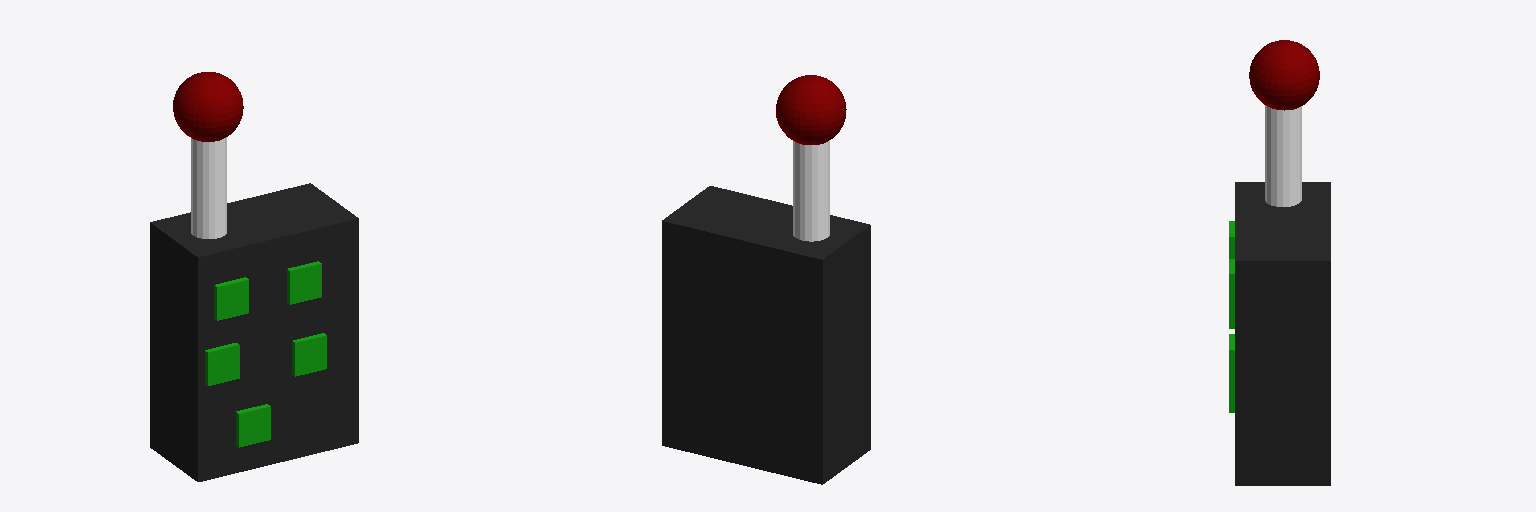
File: Control_Panel.obj
The picture shows the model from 3 angles: view 1: azimuth 30°, elevation 25°; view 2: azimuth 150°, elevation 25°; view 3: azimuth 270°, elevation 25°; orthographic projection.
Visible parts, largest first — view 1: Box001, Sphere001, Cylinder001, Box003, Box002, Box004, Box006, Box005; view 2: Box001, Sphere001, Cylinder001; view 3: Box001, Sphere001, Cylinder001.
Part boxes in pixels (x1,y1,x2,y2): Box001: (150,183,358,481); Sphere001: (173,72,243,141); Cylinder001: (191,137,226,238); Box003: (205,343,239,385); Box002: (214,277,248,320); Box004: (236,404,270,447); Box006: (292,333,326,376); Box005: (287,261,321,304); Box001: (662,186,870,484); Sphere001: (776,75,846,144); Cylinder001: (793,140,829,241); Box001: (1235,182,1330,485); Sphere001: (1249,40,1319,110); Cylinder001: (1265,105,1301,206).
Bounding box in the file's own units: 19.45 × 44.04 × 10.78.